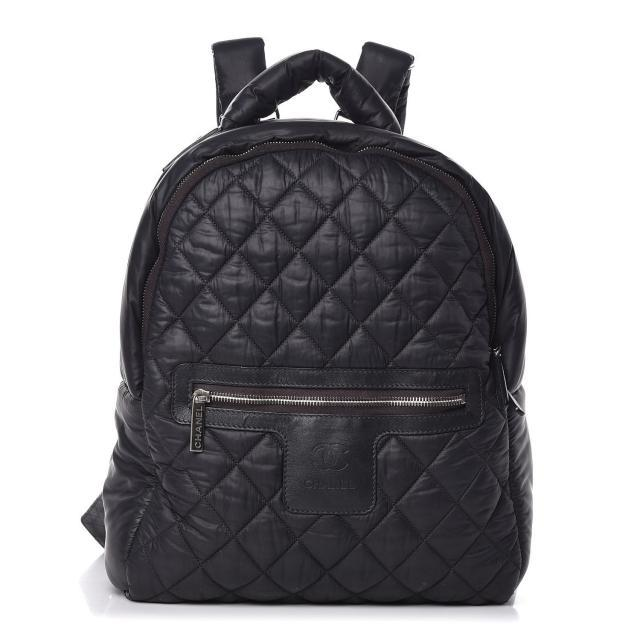Backpacks: (112, 60, 532, 619)
